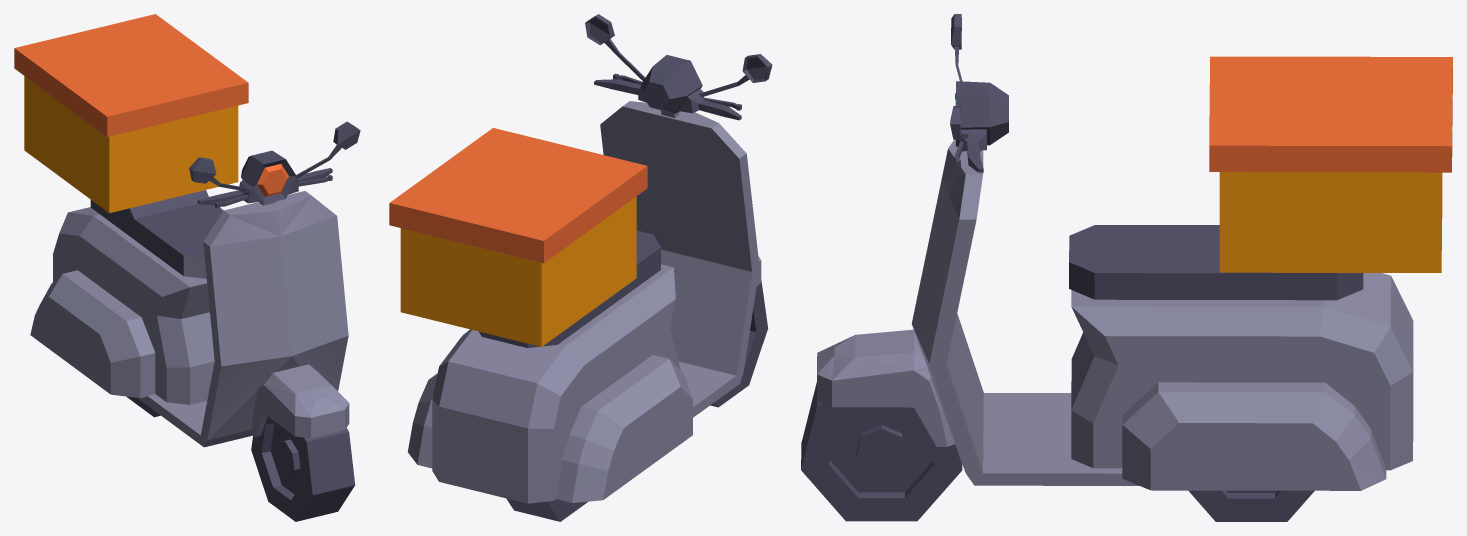
The model's file is 电鸡模型.glb.
The picture shows the model from 3 angles, left to right: view 1: azimuth 30°, elevation 25°; view 2: azimuth 150°, elevation 25°; view 3: azimuth 270°, elevation 25°; orthographic projection. The views are drawn at different scales.
Parts seen in each view (by area): view 1: G_Scooter_MAT_Base_0, Cube.264, Cube.265, Circle.109, G_Scooter_MAT_Base_0.001; view 2: G_Scooter_MAT_Base_0, Cube.264, Cube.265, G_Scooter_MAT_Base_0.001, Circle.109, Circle.108; view 3: G_Scooter_MAT_Base_0, Cube.264, Cube.265, Circle.109, G_Scooter_MAT_Base_0.001, Circle.108.
Boxes of the visible parts, box(x1,y1,x2,y2) form: G_Scooter_MAT_Base_0: box(30, 190, 349, 447); Cube.264: box(14, 14, 248, 136); Cube.265: box(24, 76, 238, 212); Circle.109: box(251, 417, 355, 521); G_Scooter_MAT_Base_0.001: box(189, 121, 360, 208); G_Scooter_MAT_Base_0: box(408, 101, 761, 503); Cube.264: box(389, 128, 647, 263); Cube.265: box(400, 196, 636, 346); G_Scooter_MAT_Base_0.001: box(585, 14, 772, 120); Circle.109: box(710, 280, 768, 407); Circle.108: box(506, 498, 587, 521); G_Scooter_MAT_Base_0: box(817, 139, 1413, 490); Cube.264: box(1209, 56, 1452, 172); Cube.265: box(1219, 172, 1442, 272); Circle.109: box(801, 382, 962, 521); G_Scooter_MAT_Base_0.001: box(950, 14, 1008, 172); Circle.108: box(1188, 490, 1314, 521).
Size of the model in its own units: 0.6874 by 1.27 by 1.67.
